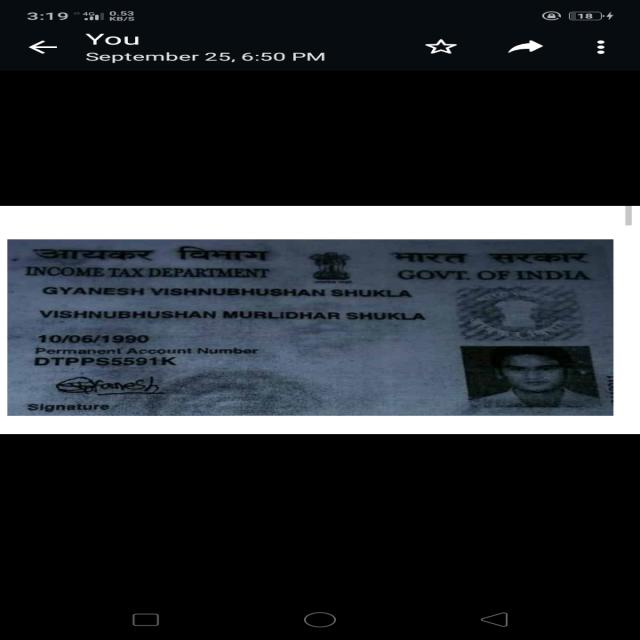pan_card: (0, 238, 613, 417)
